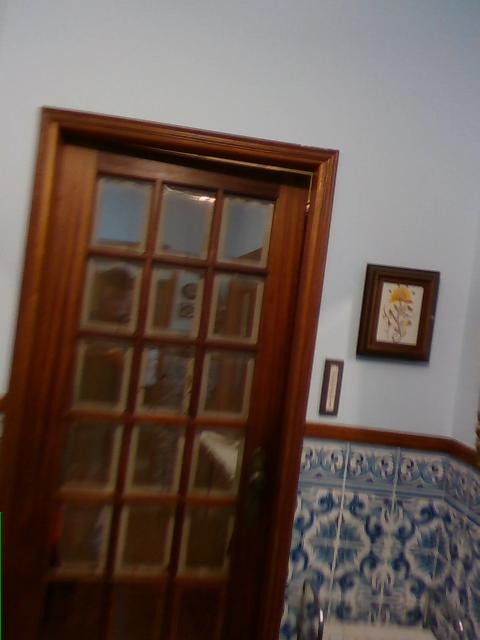door: (0, 102, 339, 639)
